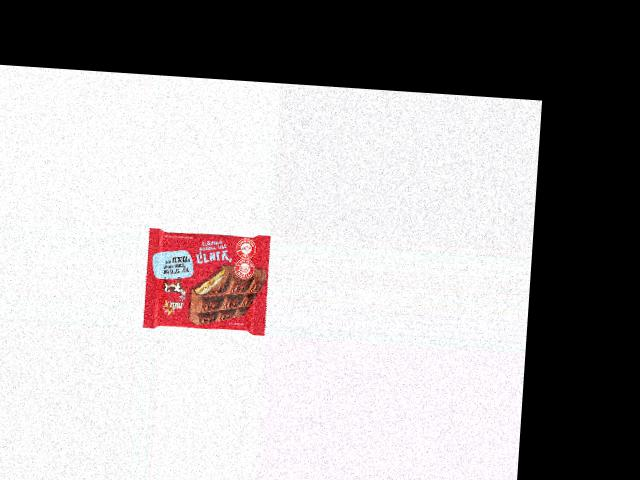chocolate: (146, 227, 269, 334)
